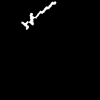double_crochet: (22, 2, 55, 28)
